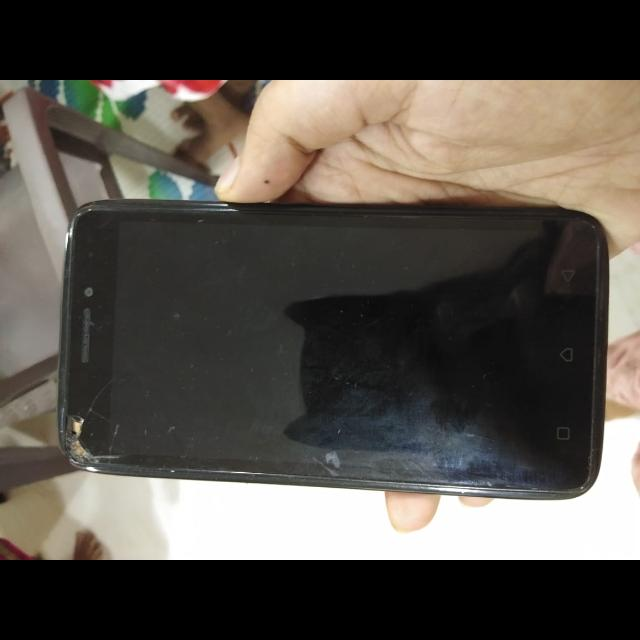Smartphone: (38, 183, 624, 512)
